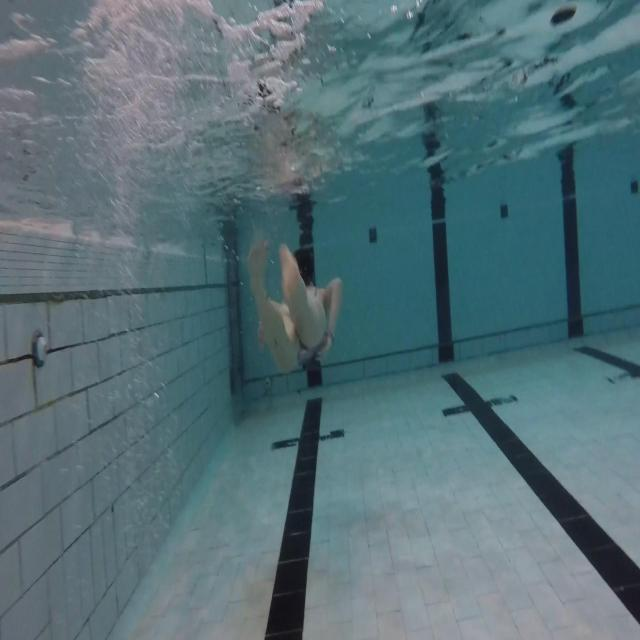human: (246, 237, 343, 374)
